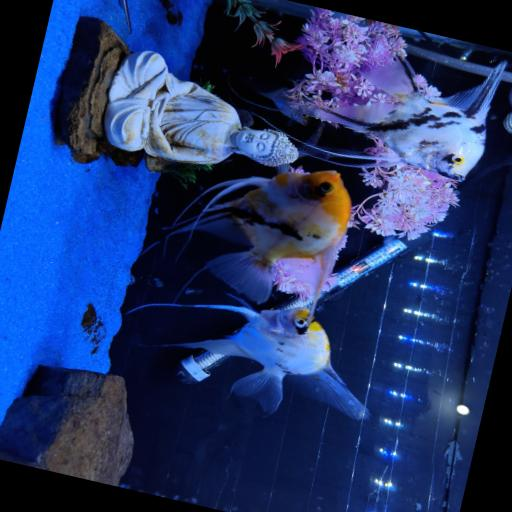Fish: (129, 303, 368, 418), (296, 57, 505, 180), (165, 170, 350, 303)
